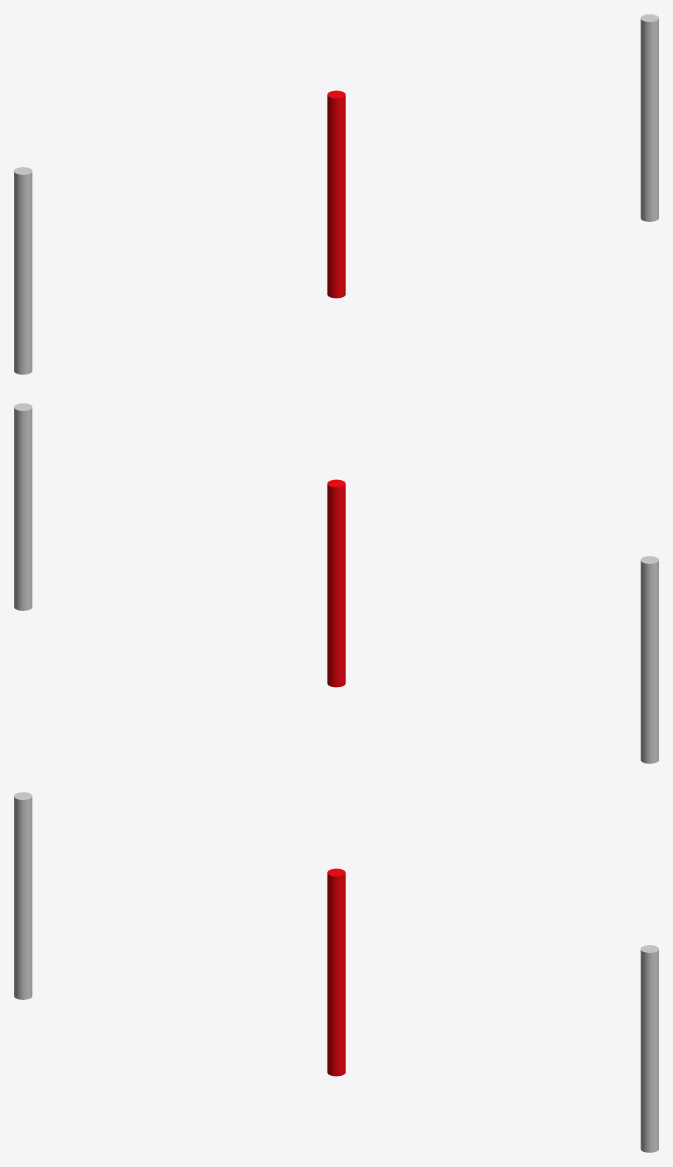
Rendered from cannalTask.dae.
3 renders of one model, top to bottom at view 1: azimuth 30°, elevation 25°; view 2: azimuth 150°, elevation 25°; view 3: azimuth 330°, elevation 25°, orthographic.
Parts seen in each view (by area): view 1: Cylinder.002, Cylinder.001, Cylinder; view 2: Cylinder.002, Cylinder.001, Cylinder; view 3: Cylinder.002, Cylinder.001, Cylinder.
Boxes of the visible parts, left/top/right/bottom form: Cylinder.002: left=327, top=90, right=345, bottom=298; Cylinder.001: left=14, top=167, right=32, bottom=374; Cylinder: left=640, top=14, right=658, bottom=221; Cylinder.002: left=327, top=479, right=345, bottom=687; Cylinder.001: left=640, top=556, right=658, bottom=763; Cylinder: left=14, top=403, right=32, bottom=610; Cylinder.002: left=327, top=868, right=345, bottom=1076; Cylinder.001: left=14, top=792, right=32, bottom=999; Cylinder: left=640, top=945, right=658, bottom=1152.
Bounding box in the file's own units: 3.08 × 0.0762 × 0.9144.
